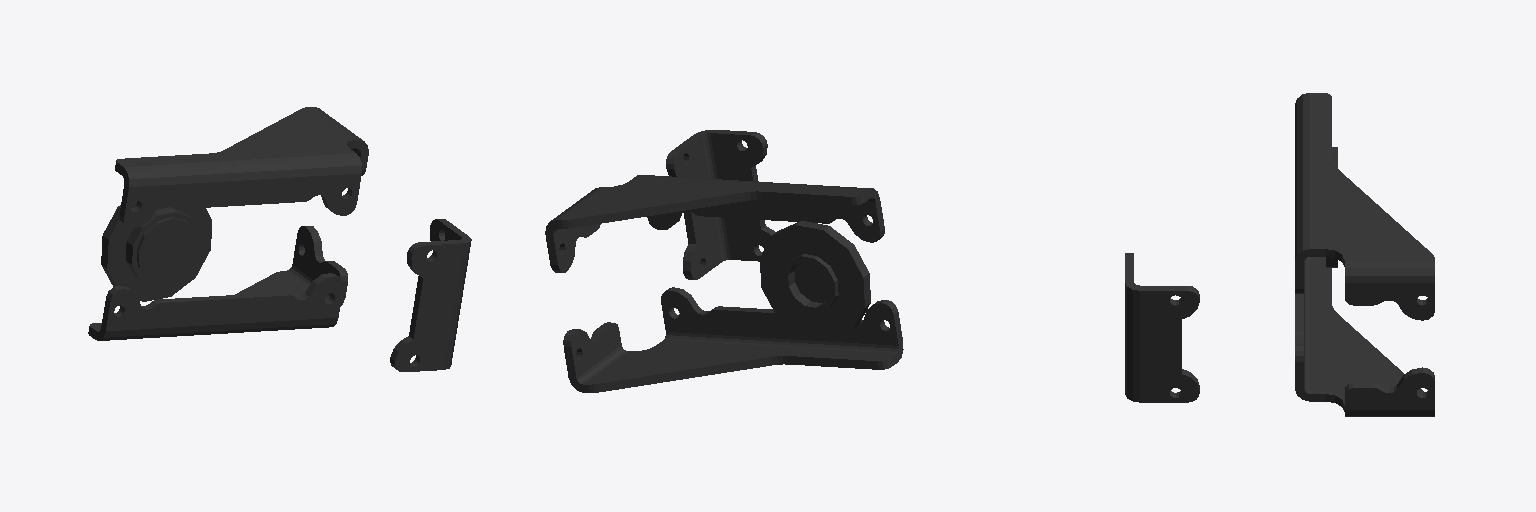
The model's file is roki_Robot_Football_Player_SKS_2501_Servov12_10__v1_1__1_mesh_3.obj.
The picture shows the model from 3 angles: view 1: azimuth 30°, elevation 25°; view 2: azimuth 150°, elevation 25°; view 3: azimuth 270°, elevation 25°; orthographic projection.
Size of the model in its own units: 0.054 by 0.0378 by 0.05.